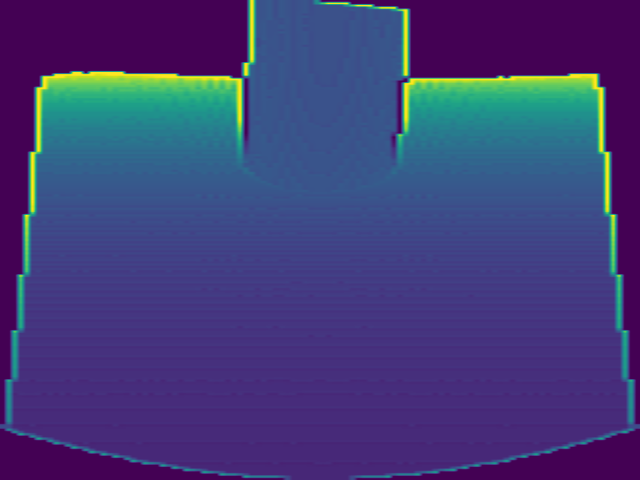cylinder: (239, 1, 410, 181)
